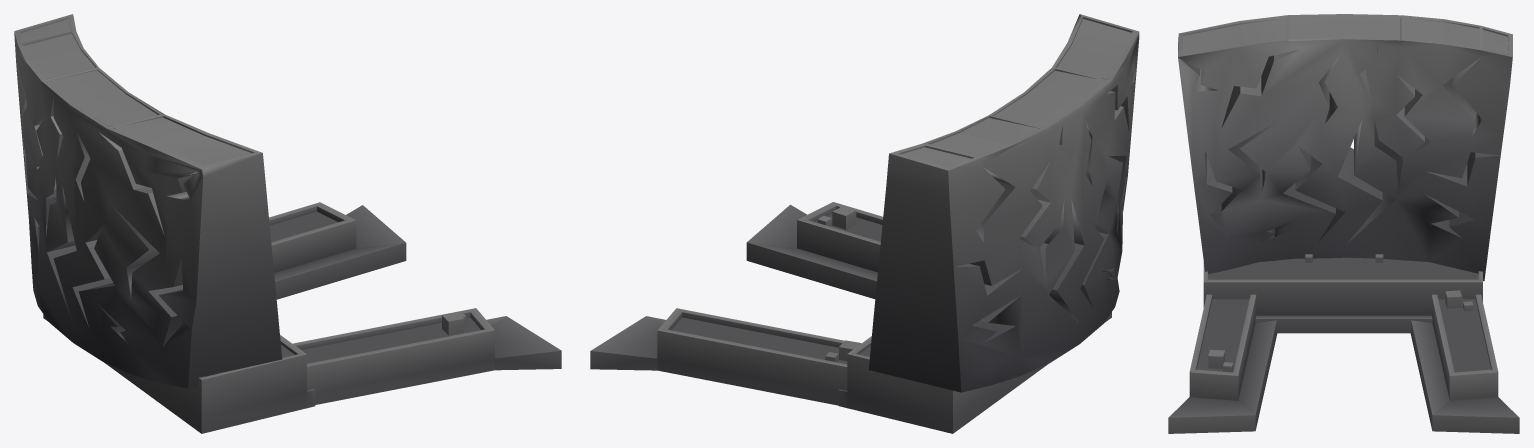
Rendered from SM_Dam_Broken_stage_2.fbx.
3 renders of one model, left to right at view 1: azimuth 30°, elevation 25°; view 2: azimuth 150°, elevation 25°; view 3: azimuth 270°, elevation 25°, orthographic. The views are drawn at different scales.
Parts seen in each view (by area): view 1: DamBroken.023, DamBroken.001; view 2: DamBroken.023, DamBroken.001; view 3: DamBroken.023, DamBroken.001.
Part boxes in pixels (x1,y1,x2,y2): DamBroken.023: (14,14,282,388); DamBroken.001: (43,202,561,433); DamBroken.023: (868,14,1139,392); DamBroken.001: (590,202,1111,433); DamBroken.023: (1178,14,1512,281); DamBroken.001: (1168,254,1519,433).
Size of the model in its own units: 2740 by 2413 by 1910.
